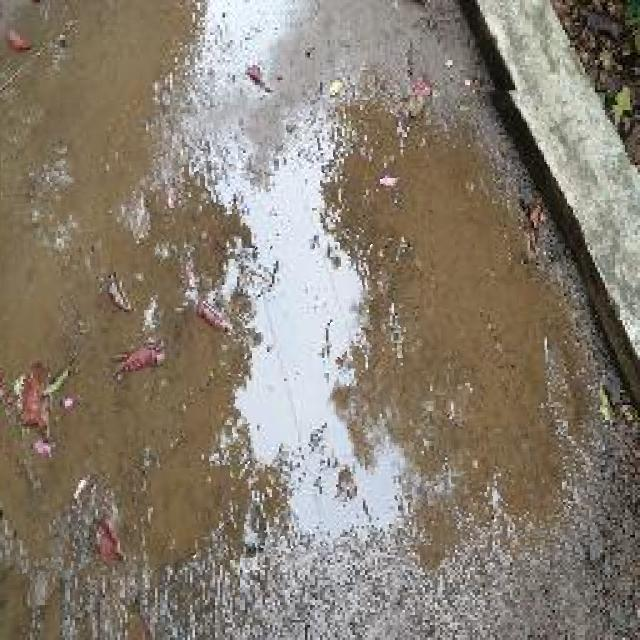puddle: (1, 96, 599, 565)
